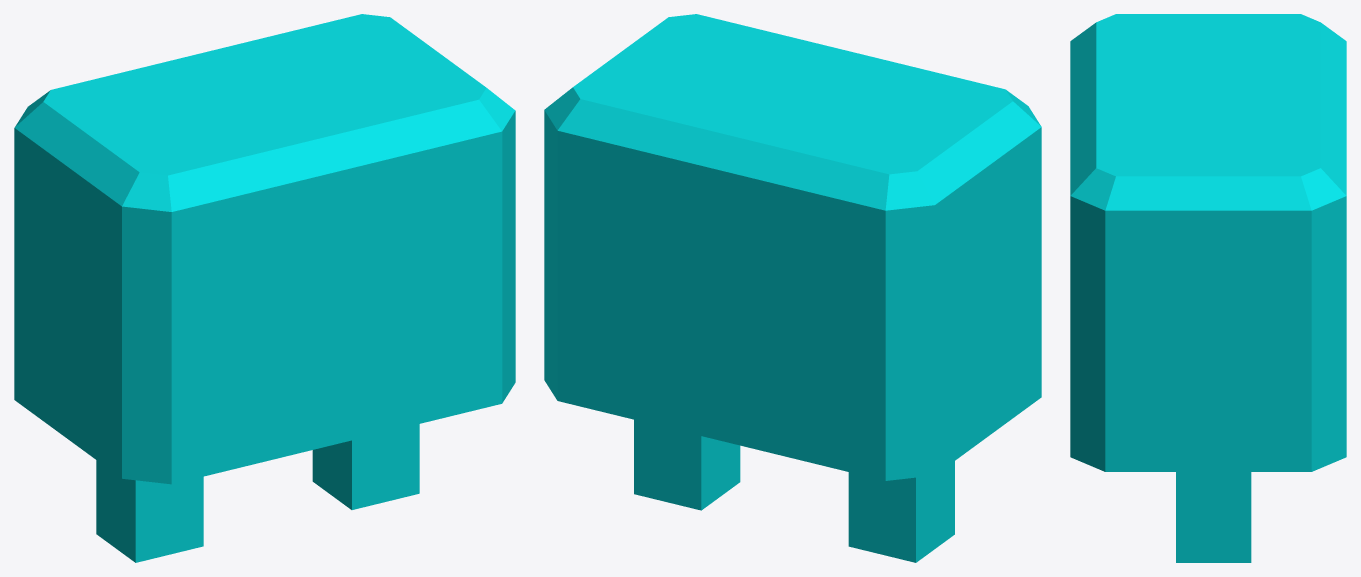
The model's file is Plug.fbx.
The picture shows the model from 3 angles, left to right: view 1: azimuth 30°, elevation 25°; view 2: azimuth 150°, elevation 25°; view 3: azimuth 270°, elevation 25°; orthographic projection. The views are drawn at different scales.
Visible parts, largest first — view 1: Plug; view 2: Plug; view 3: Plug.
Boxes of the visible parts, x1,y1,x2,y2 form: Plug: (14, 14, 515, 562); Plug: (544, 14, 1041, 562); Plug: (1070, 14, 1346, 562).
Size of the model in its own units: 214 by 218 by 136.
